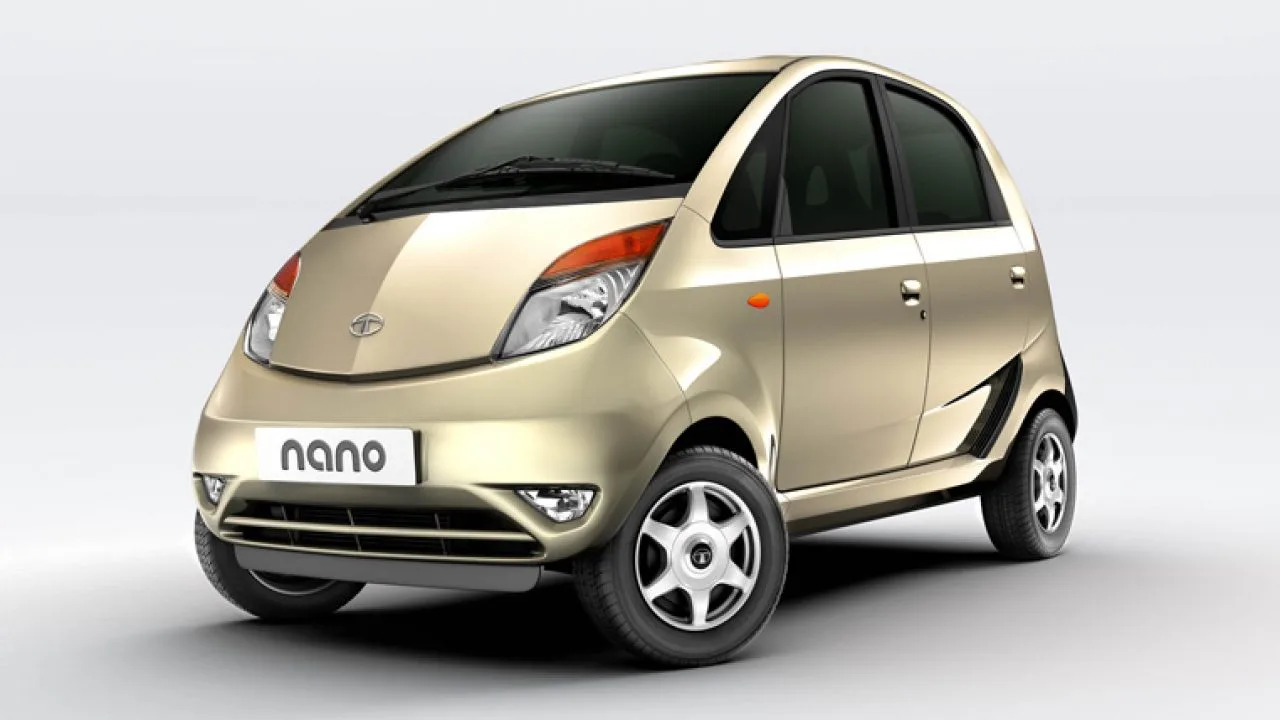Nano: (177, 55, 1080, 669)
